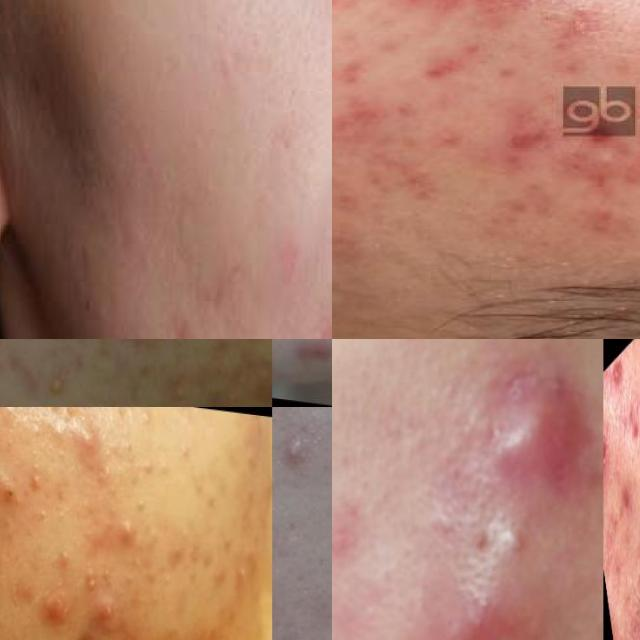acne_scars: (387, 51, 469, 94), (603, 408, 625, 538), (282, 339, 332, 383), (495, 126, 558, 156), (626, 366, 640, 452), (106, 339, 171, 356)
comedone: (17, 459, 53, 500), (165, 436, 196, 481), (216, 552, 248, 594), (35, 373, 74, 407), (76, 552, 106, 596), (154, 379, 194, 407), (131, 455, 154, 494)
cystic: (473, 348, 601, 511), (437, 579, 539, 640)
papule: (362, 143, 470, 208), (538, 1, 620, 66), (332, 86, 390, 157), (60, 416, 106, 479), (22, 586, 53, 640), (606, 344, 632, 407)
pustule: (499, 518, 545, 578), (82, 593, 129, 640), (109, 513, 137, 563), (278, 429, 310, 472)
sebo-crystan-conglo: (556, 137, 640, 200)
